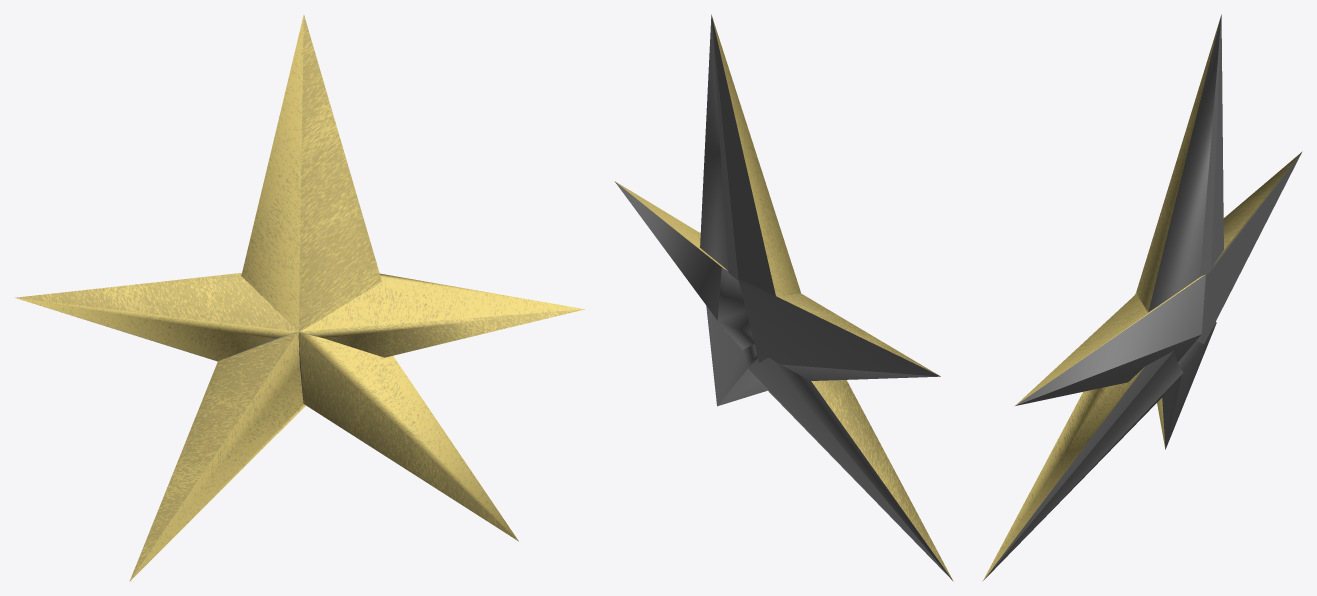
The model's file is star2.obj.
The picture shows the model from 3 angles, left to right: view 1: azimuth 30°, elevation 25°; view 2: azimuth 150°, elevation 25°; view 3: azimuth 270°, elevation 25°; orthographic projection. The views are drawn at different scales.
Visible parts, largest first — view 1: pCone23; view 2: pCone23; view 3: pCone23.
Boxes of the visible parts, x1,y1,x2,y2 form: pCone23: (15,14,584,581); pCone23: (614,14,953,581); pCone23: (982,14,1302,581).
Bounding box in the file's own units: 4.29 × 4.67 × 2.5.
3 materials, 2 textured.
